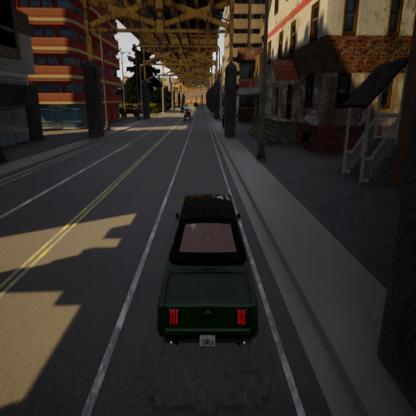Cars: (160, 196, 258, 346), (121, 103, 140, 118), (136, 102, 152, 115), (183, 106, 191, 118), (180, 105, 185, 113), (184, 110, 186, 122)
Pedestrian: (221, 110, 225, 127)
